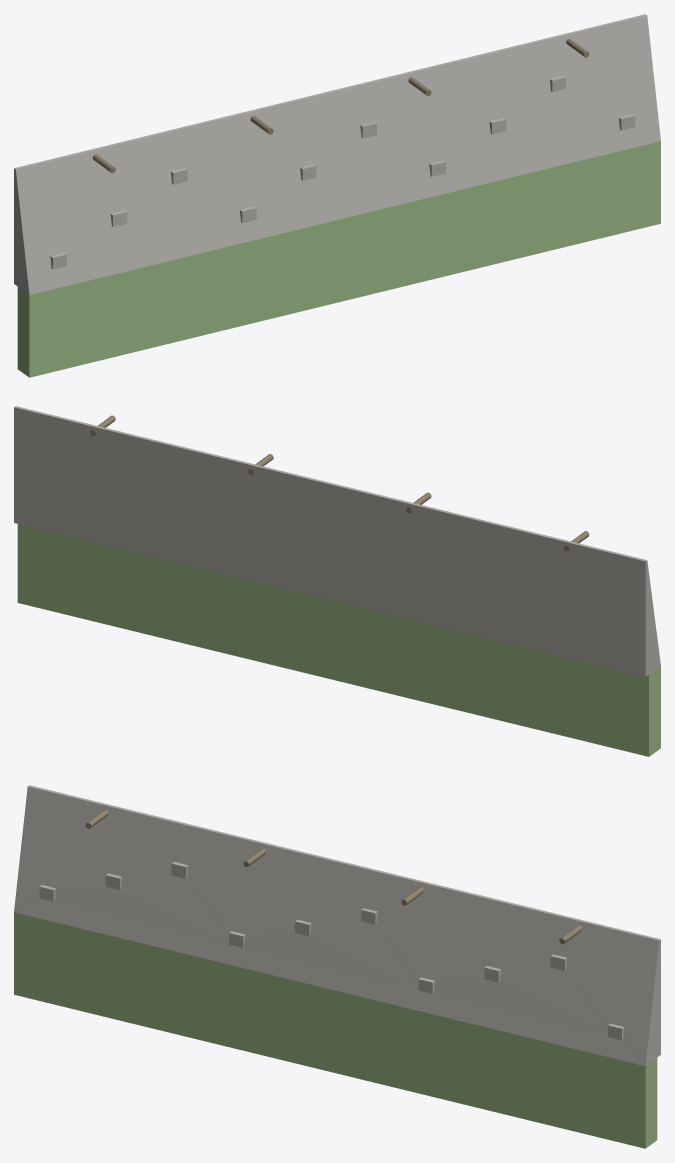
The model's file is r-150-twentekanaal-riprap-bank.glb.
3 views of the same model, one above another, from view 1: azimuth 30°, elevation 25°; view 2: azimuth 150°, elevation 25°; view 3: azimuth 330°, elevation 25° (orthographic).
Visible parts, largest first — view 1: riprap, grass-crest, piles; view 2: riprap, grass-crest, piles; view 3: riprap, grass-crest, piles.
Part boxes in pixels (box(x1,y1,x2,y2)): riprap: box(14, 14, 660, 294); grass-crest: box(17, 141, 660, 377); piles: box(92, 38, 589, 173); riprap: box(14, 406, 660, 676); grass-crest: box(17, 524, 660, 756); piles: box(90, 415, 589, 551); riprap: box(14, 785, 660, 1065); grass-crest: box(14, 912, 657, 1148); piles: box(85, 809, 582, 944).
Size of the model in its own units: 40000 by 11999 by 2201.
